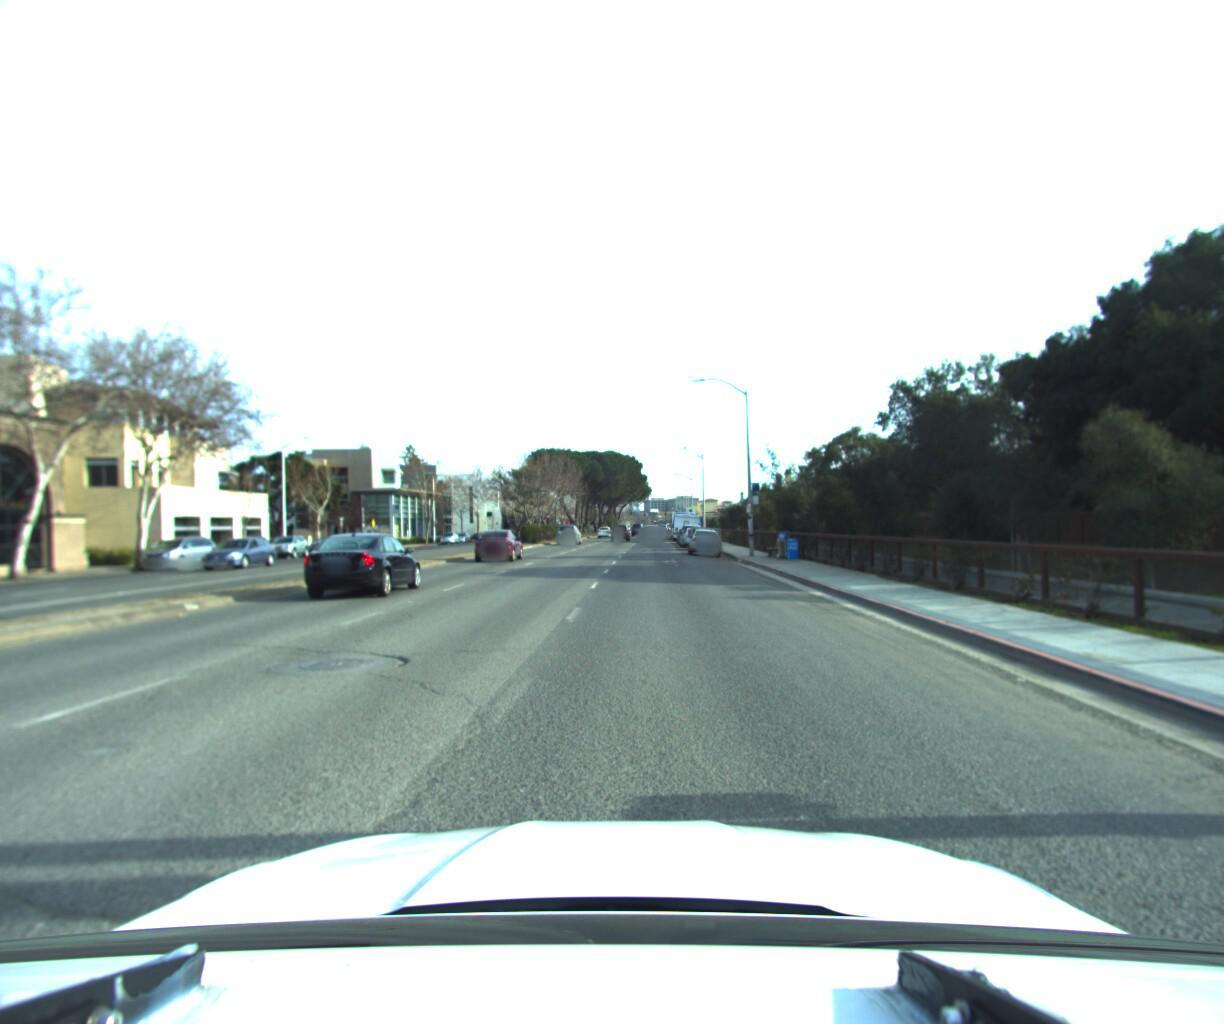car: (300, 526, 428, 600), (186, 533, 285, 573), (137, 535, 226, 574), (472, 523, 525, 558), (265, 533, 313, 560), (689, 521, 725, 551), (687, 525, 722, 555), (677, 524, 710, 547), (555, 522, 583, 544), (641, 521, 662, 541)
other_vehicle: (671, 507, 703, 539)
